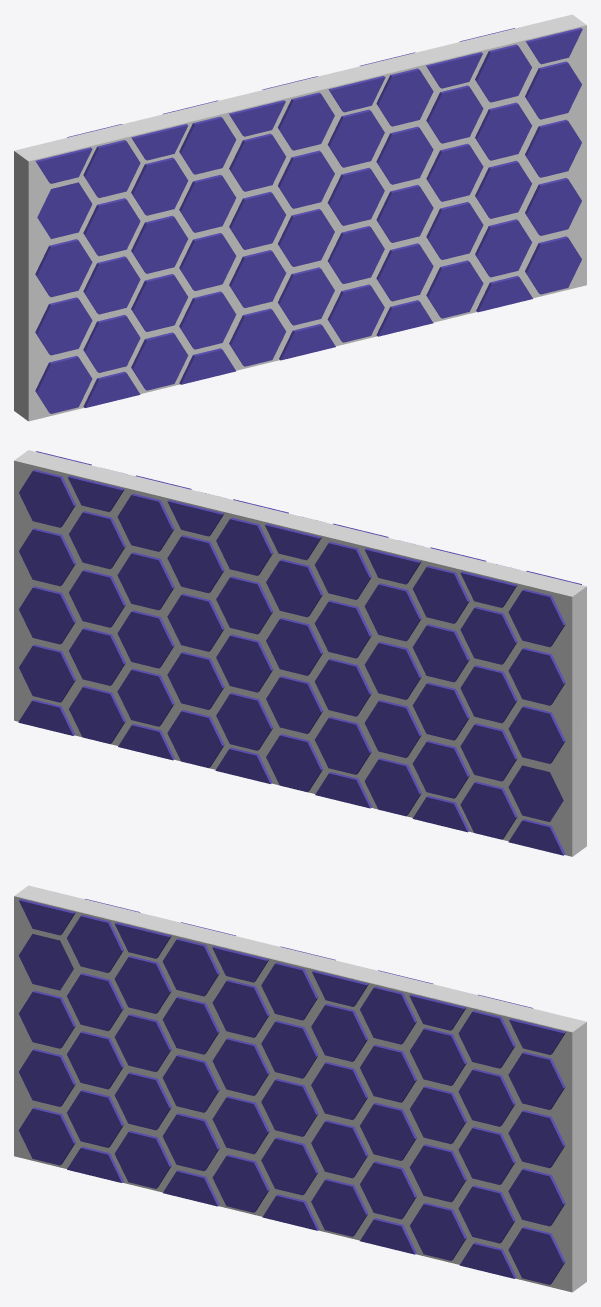
Rendered from ciftyuzluduvarkisa (1).fbx.
The picture shows the model from 3 angles, top to bottom: view 1: azimuth 30°, elevation 25°; view 2: azimuth 150°, elevation 25°; view 3: azimuth 330°, elevation 25°; orthographic projection.
Parts seen in each view (by area): view 1: Cube.008; view 2: Cube.008; view 3: Cube.008.
Boxes of the visible parts, left/top/right/bottom form: Cube.008: left=14, top=14, right=586, bottom=421; Cube.008: left=14, top=450, right=586, bottom=856; Cube.008: left=14, top=885, right=586, bottom=1292.
Size of the model in its own units: 2251 by 1002 by 130.
